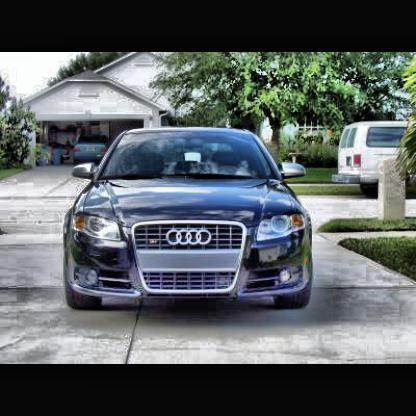Audi S4 Sedan 2007: (64, 127, 314, 311)
